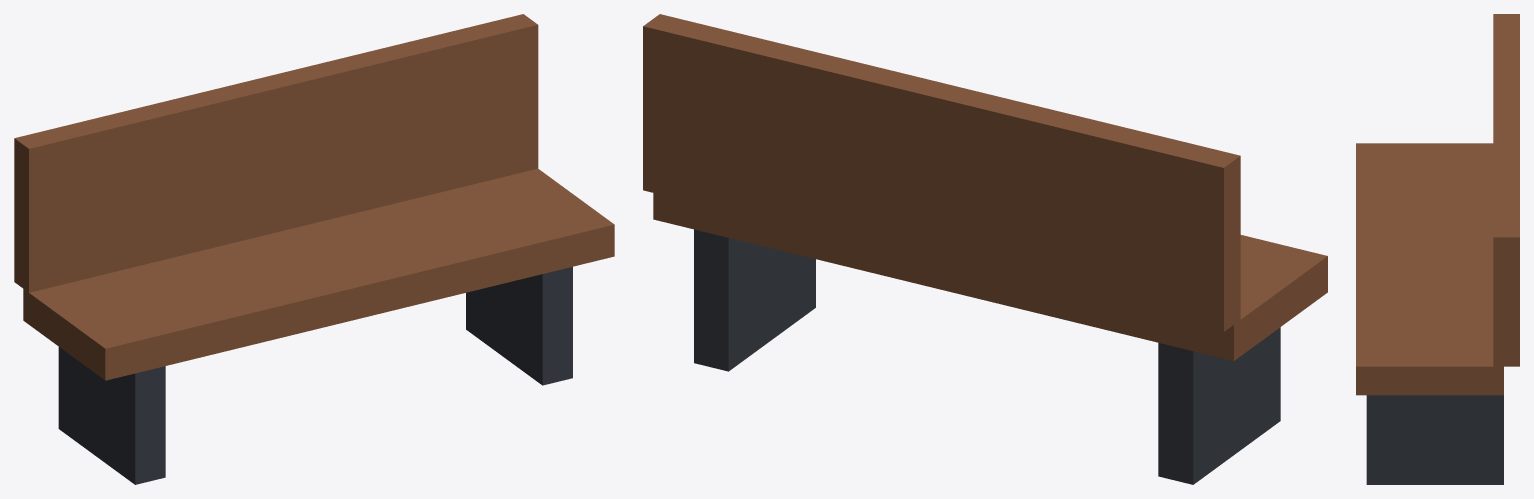
Rendered from P_Bench.fbx.
3 views of the same model, side by side, from view 1: azimuth 30°, elevation 25°; view 2: azimuth 150°, elevation 25°; view 3: azimuth 270°, elevation 25° (orthographic). The views are drawn at different scales.
Parts seen in each view (by area): view 1: P_Bench.004; view 2: P_Bench.004; view 3: P_Bench.004.
Boxes of the visible parts, x1,y1,x2,y2 form: P_Bench.004: (14,14,614,484); P_Bench.004: (643,14,1327,484); P_Bench.004: (1356,14,1519,484).
Bounding box in the file's own units: 1 × 0.55 × 0.31.
